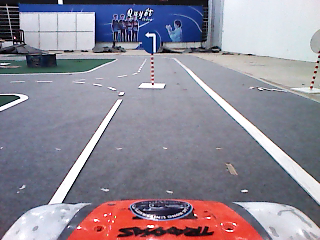turn: (141, 30, 162, 55)
